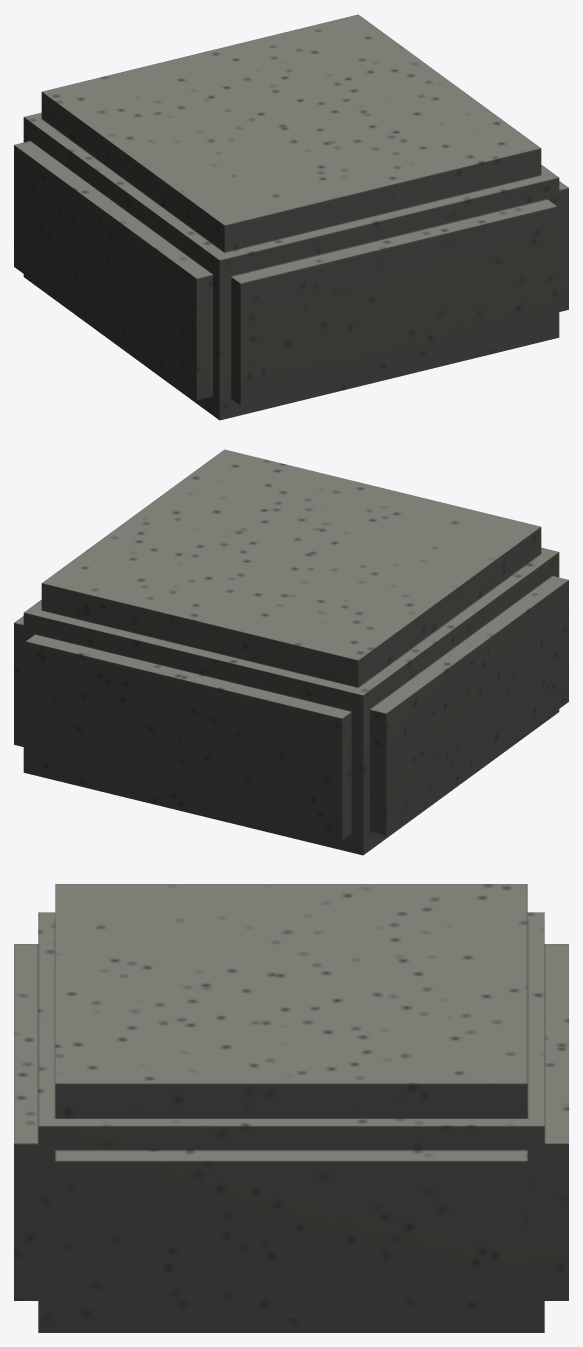
The model's file is Batu 4.fbx.
3 views of the same model, one above another, from view 1: azimuth 30°, elevation 25°; view 2: azimuth 150°, elevation 25°; view 3: azimuth 270°, elevation 25° (orthographic). The views are drawn at different scales.
Parts seen in each view (by area): view 1: Batu 4; view 2: Batu 4; view 3: Batu 4.
Boxes of the visible parts, x1,y1,x2,y2 form: Batu 4: (14, 14, 568, 420); Batu 4: (14, 449, 568, 855); Batu 4: (14, 884, 568, 1332).
Bounding box in the file's own units: 197 × 94.59 × 197.
Materials: 1 (1 with a texture image).
